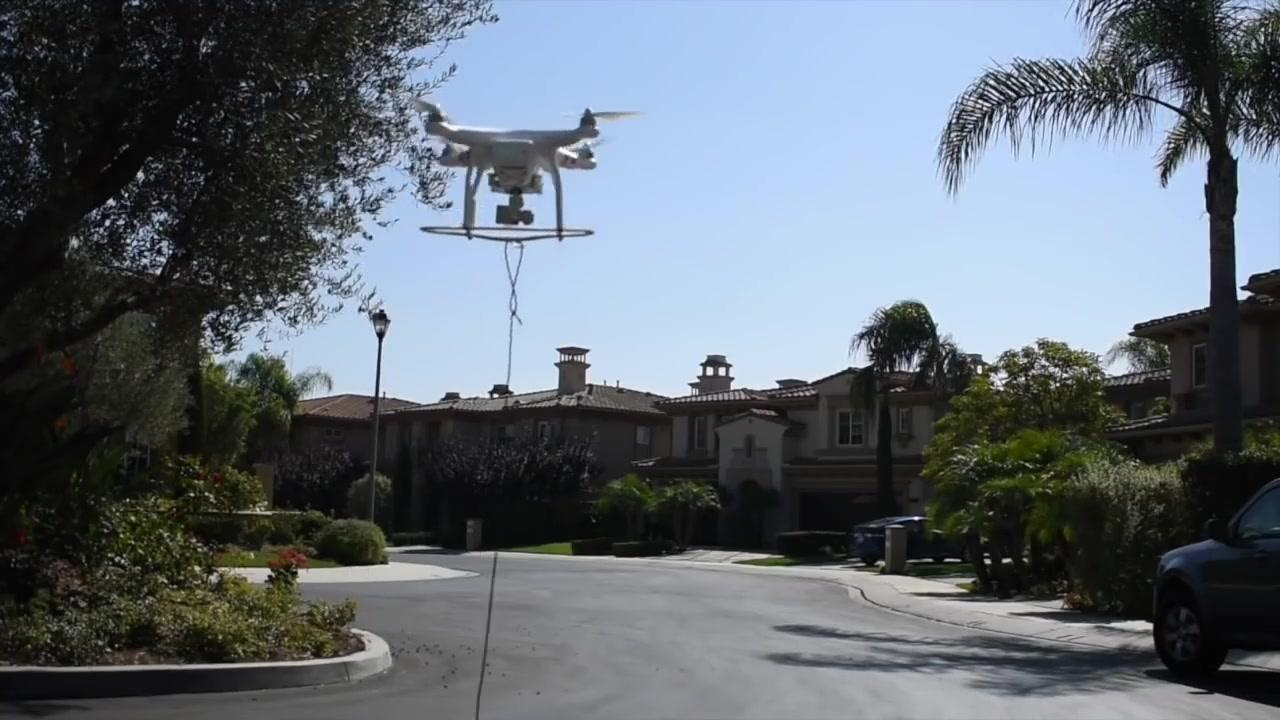UAV: (390, 94, 643, 243)
